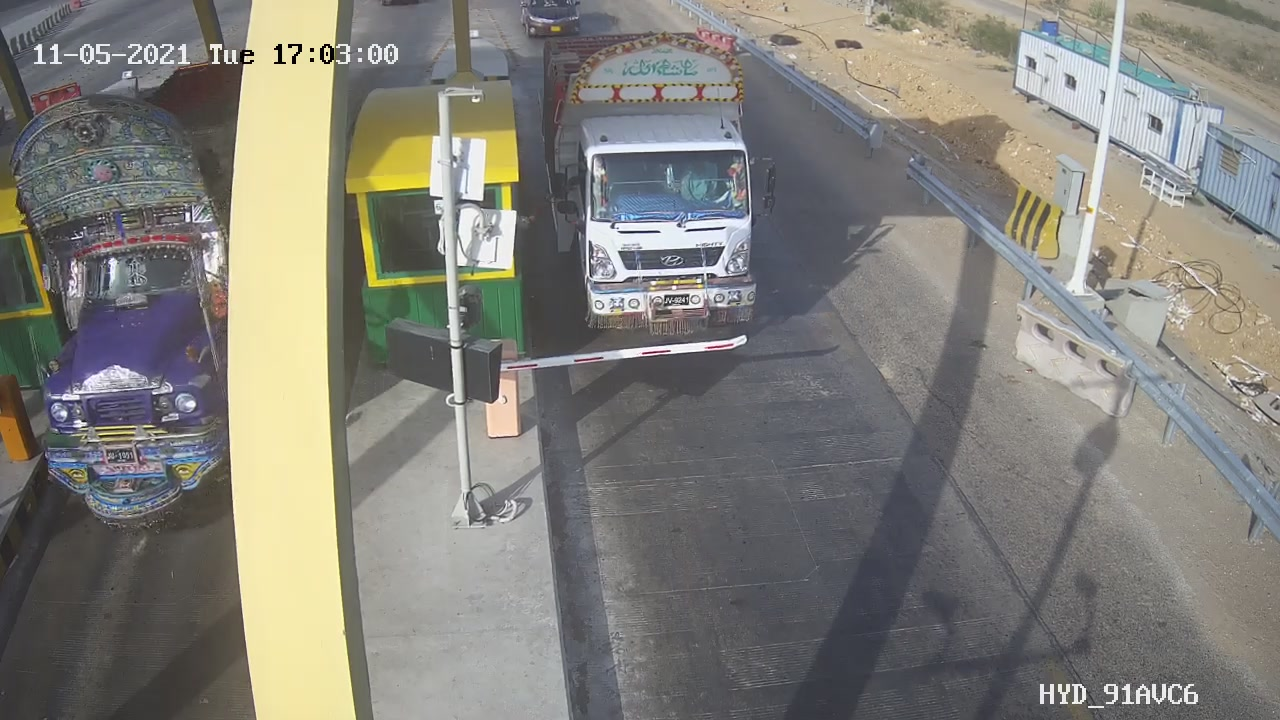F5: (521, 21, 801, 361)
